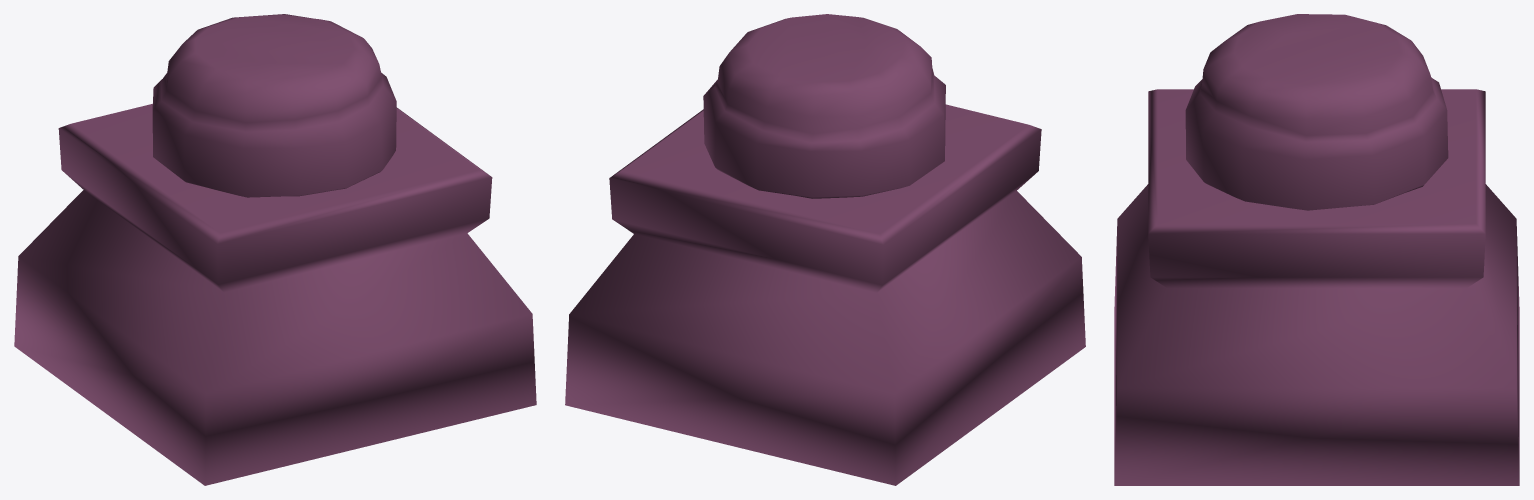
The model's file is Pillar_02_Base_Lod0.fbx.
3 views of the same model, side by side, from view 1: azimuth 30°, elevation 25°; view 2: azimuth 150°, elevation 25°; view 3: azimuth 270°, elevation 25° (orthographic). The views are drawn at different scales.
Parts seen in each view (by area): view 1: Pillar_02_Base_Lod0; view 2: Pillar_02_Base_Lod0; view 3: Pillar_02_Base_Lod0.
Boxes of the visible parts, box(x1,y1,x2,y2) form: Pillar_02_Base_Lod0: box(14, 14, 536, 485); Pillar_02_Base_Lod0: box(565, 14, 1085, 485); Pillar_02_Base_Lod0: box(1114, 14, 1519, 485).
Size of the model in its own units: 60.95 by 57.97 by 60.67.
